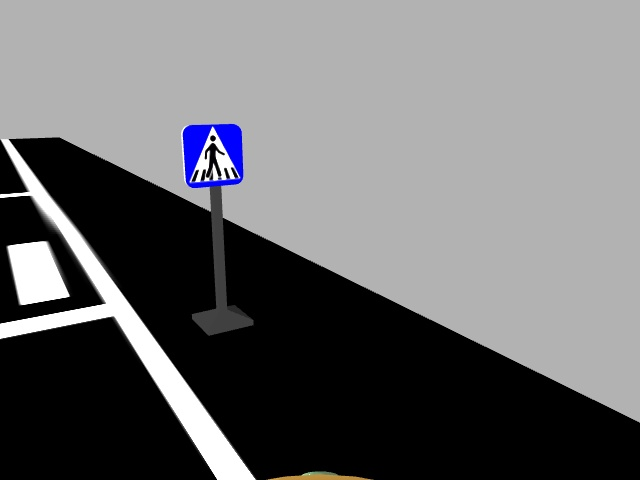Crosswalk: (177, 123, 248, 186)
